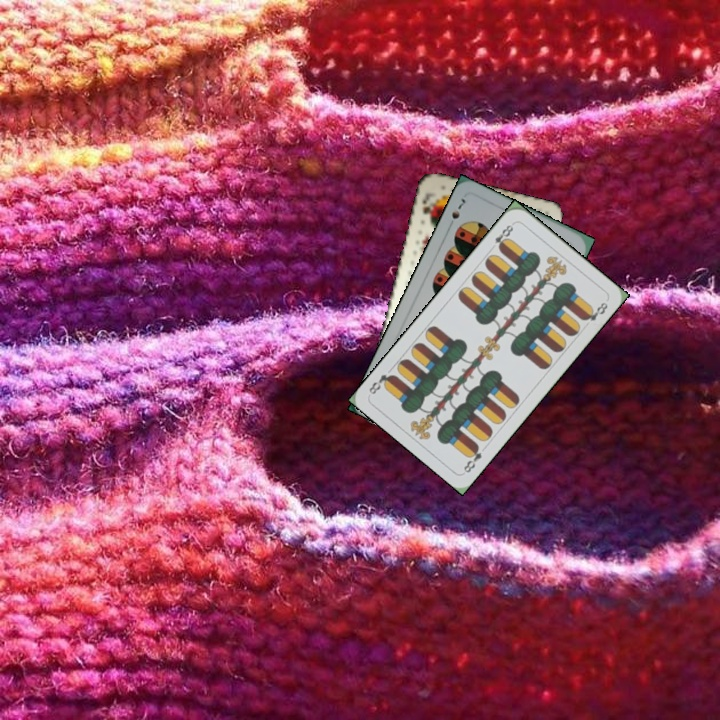E8: (486, 219, 517, 253), (459, 441, 485, 475)
S7: (447, 194, 468, 222)
SK: (418, 191, 437, 225)
